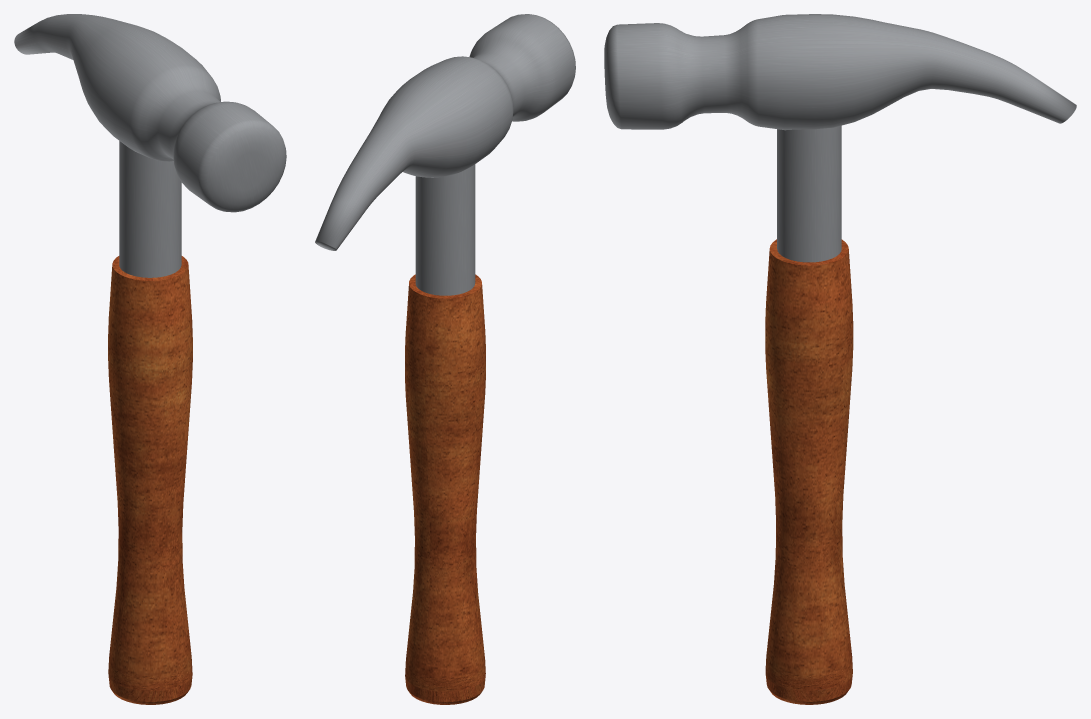
File: Martillo_Texturizado.fbx
3 views of the same model, side by side, from view 1: azimuth 30°, elevation 25°; view 2: azimuth 150°, elevation 25°; view 3: azimuth 270°, elevation 25° (orthographic). The views are drawn at different scales.
Visible parts, largest first — view 1: Cylinder; view 2: Cylinder; view 3: Cylinder.
Part boxes in pixels (x1,y1,x2,y2): Cylinder: (14,14,286,704); Cylinder: (315,14,575,704); Cylinder: (604,14,1076,704).
Size of the model in its own units: 79.48 by 505 by 324.
1 material, 1 textured.
